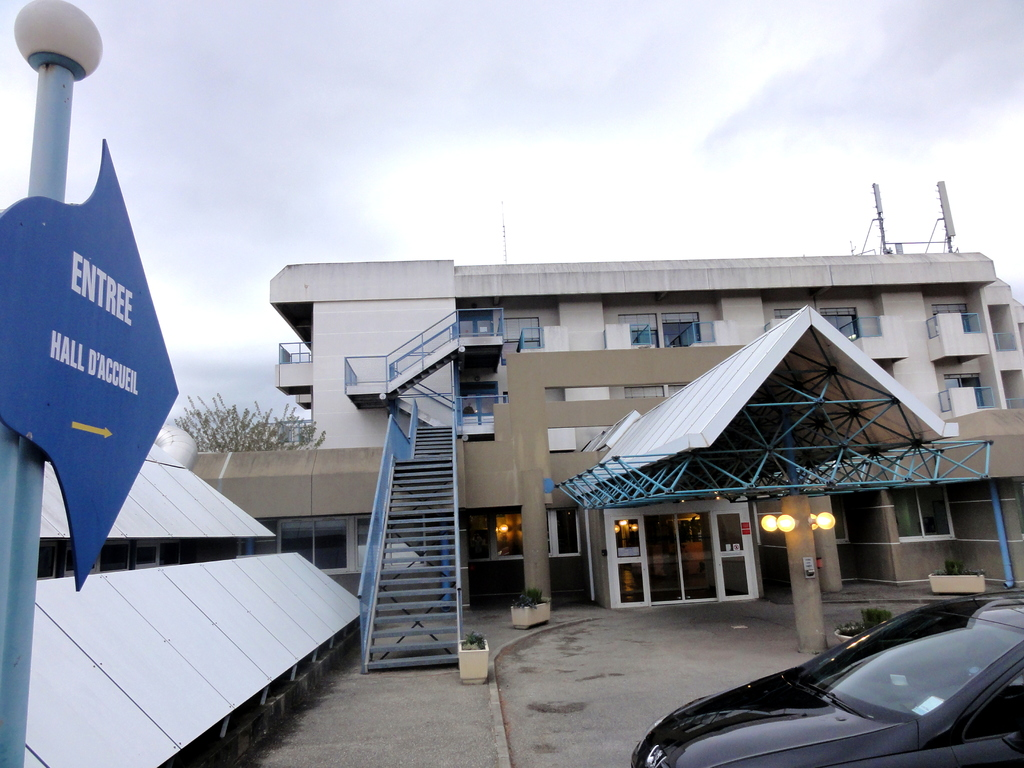Car: (635, 587, 1023, 767)
